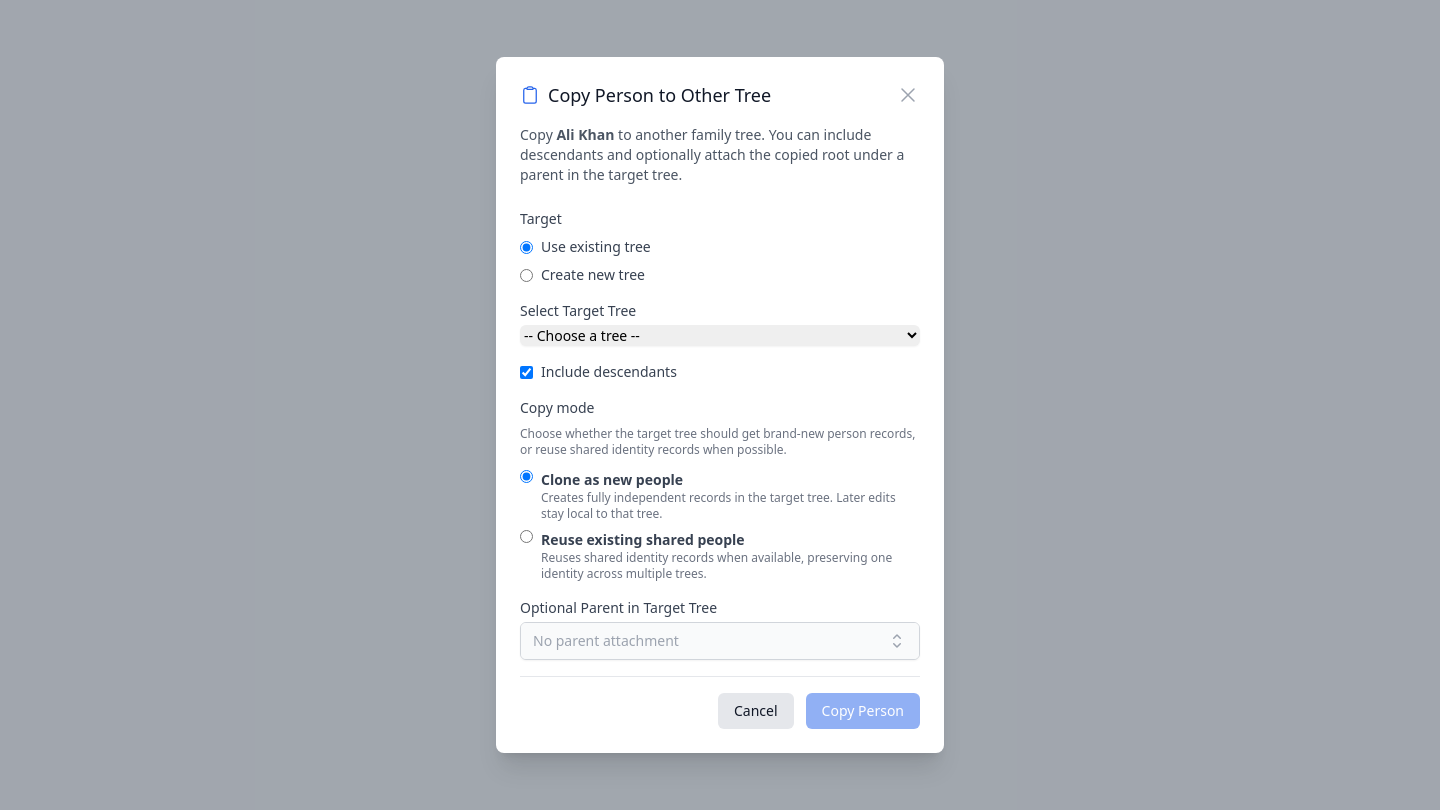
Test: CopyPersonModal › supports toggling to create mode and requires new tree name
Click the radio button labelled "Create new tree" at coordinates (526, 275), box [520,268,533,282]
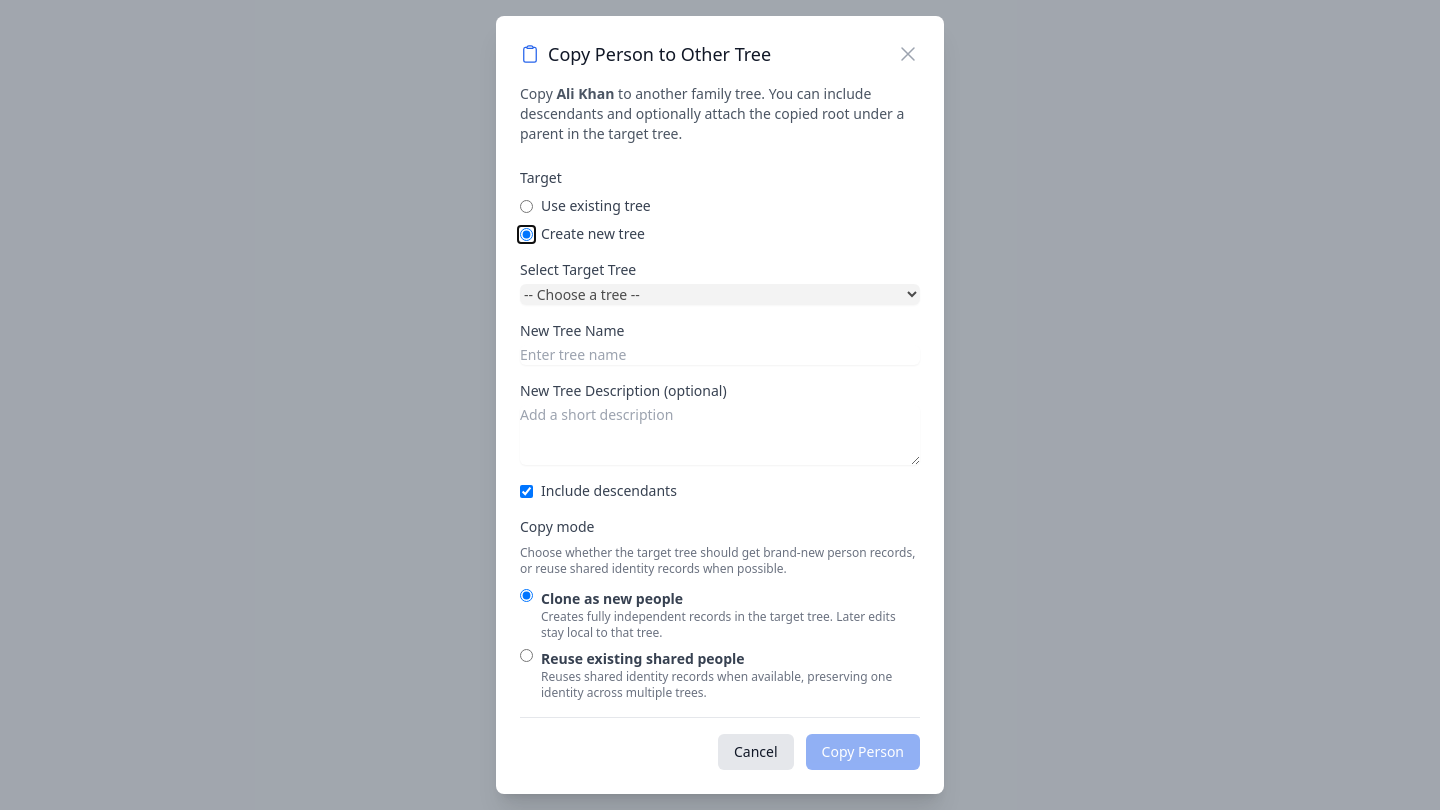
Now the field labelled "New Tree Name" is shown, box [520,345,920,365]
Now the text box labelled "New Tree Description (optional)" is shown, box [520,405,920,465]
Now the label labelled "Optional Parent in Target Tree" is gone
